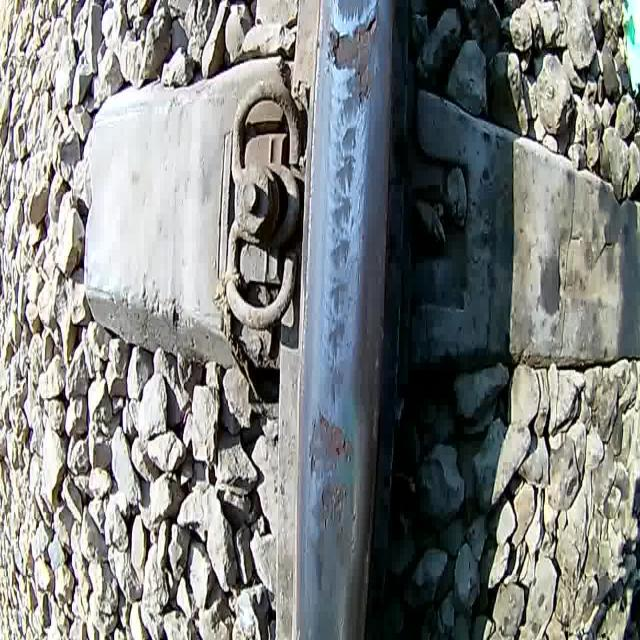Spallings: (316, 14, 386, 112)
Squats: (322, 70, 366, 409), (305, 408, 357, 601), (331, 0, 381, 26)
